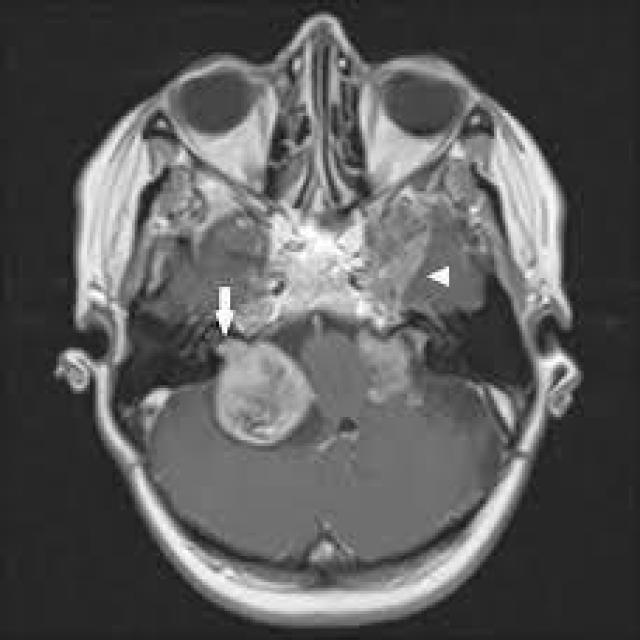Tumor: (205, 333, 314, 446)
